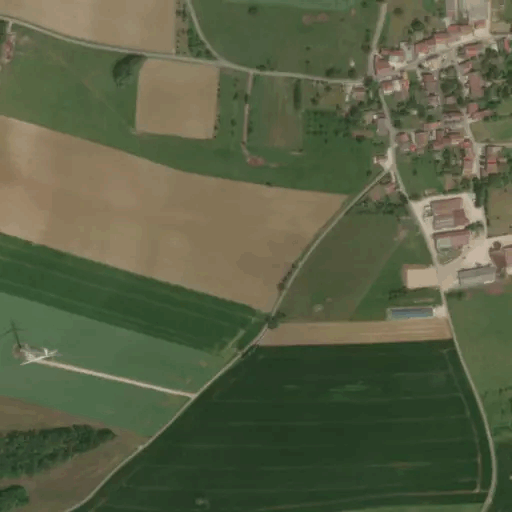wt: (1, 315, 65, 372)
